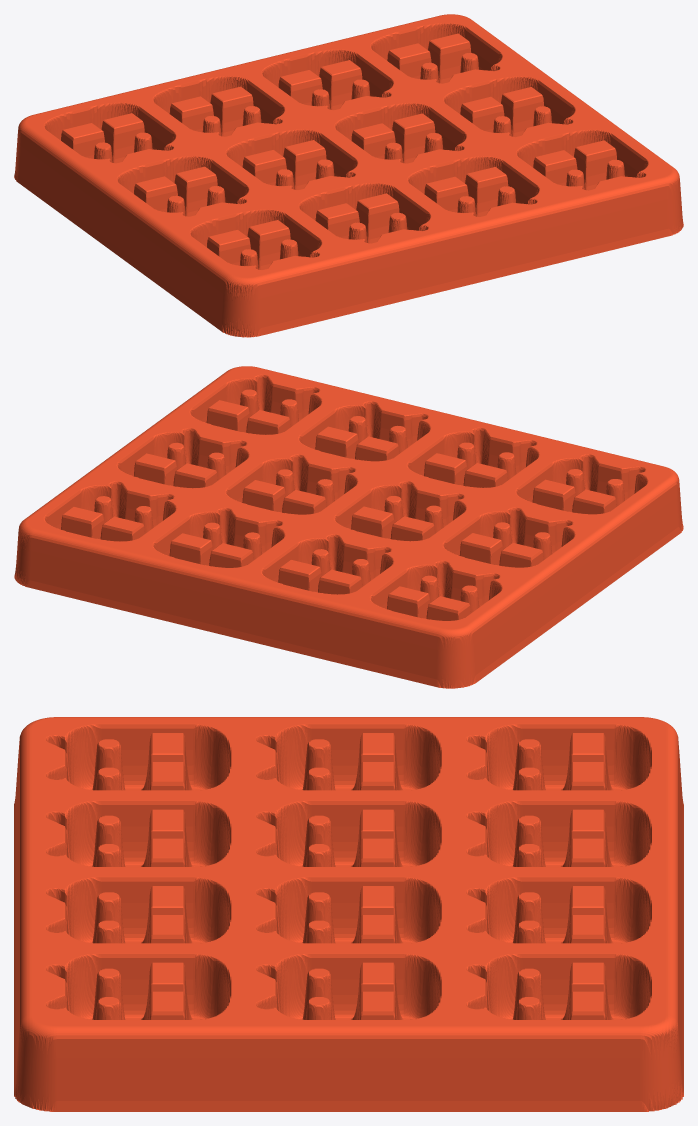
Rendered from mold.glb.
3 views of the same model, one above another, from view 1: azimuth 30°, elevation 25°; view 2: azimuth 150°, elevation 25°; view 3: azimuth 270°, elevation 25° (orthographic). The views are drawn at different scales.
Parts seen in each view (by area): view 1: geometry_0; view 2: geometry_0; view 3: geometry_0.
Part boxes in pixels (x1=…): geometry_0: x1=14, y1=14, x2=683, y2=337; geometry_0: x1=14, y1=366, x2=683, y2=688; geometry_0: x1=14, y1=717, x2=683, y2=1111.
Size of the model in its own units: 0.1606 by 0.0182 by 0.141.
